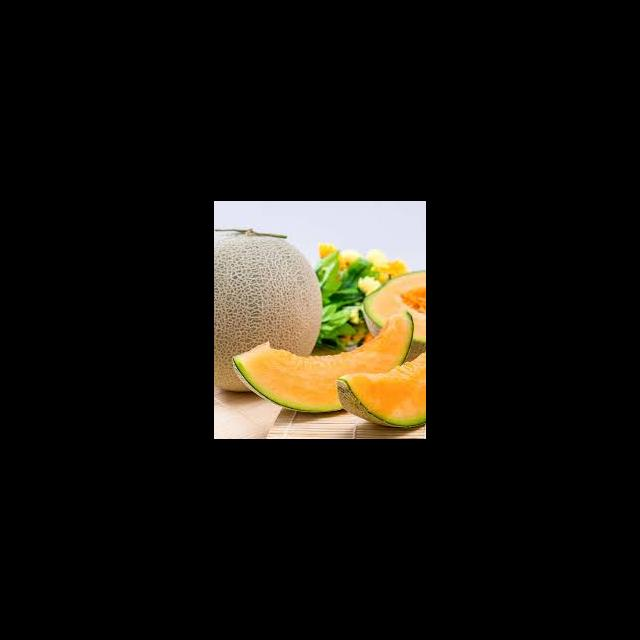Hami Melon: (232, 310, 415, 413), (214, 229, 323, 392)
